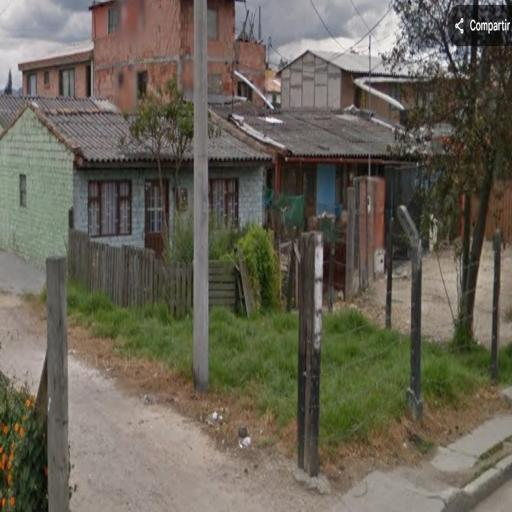poste: (185, 0, 220, 394)
